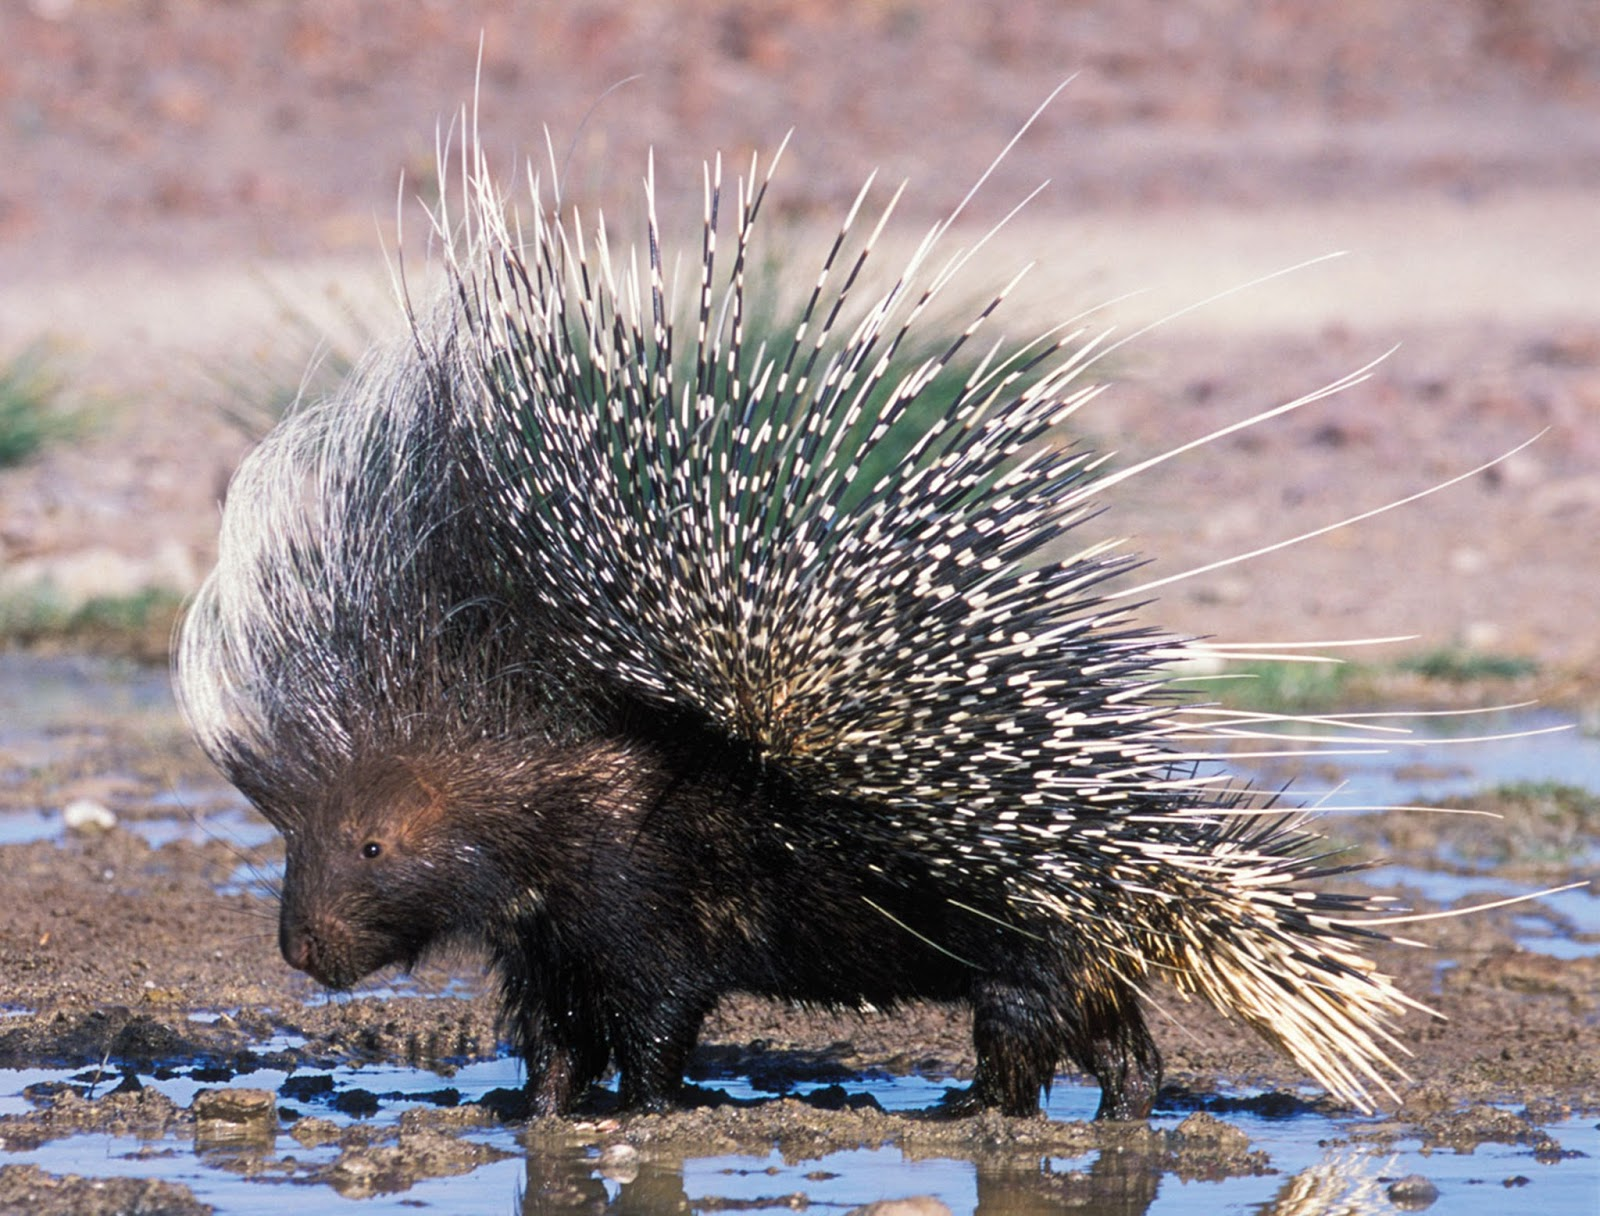porcupine: (132, 64, 1451, 1142)
